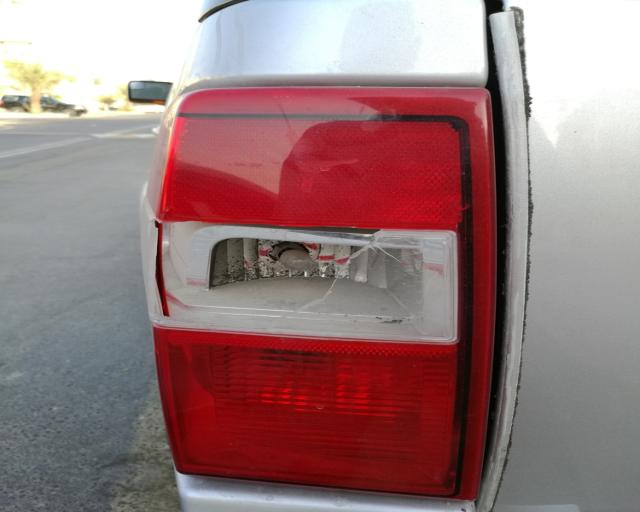lamp broken: (140, 84, 502, 503)
